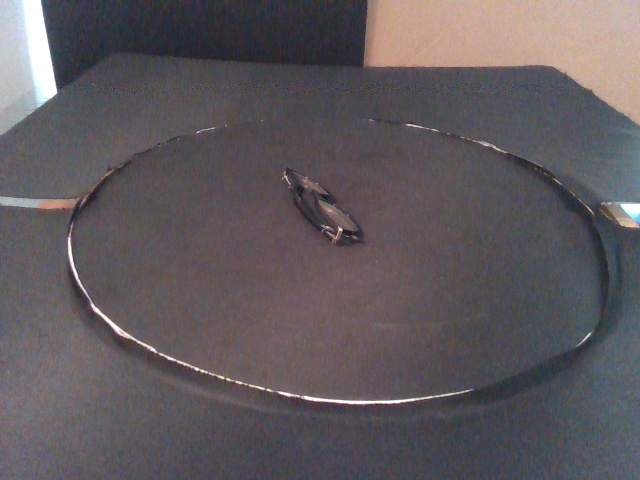glasses: (279, 167, 363, 248)
